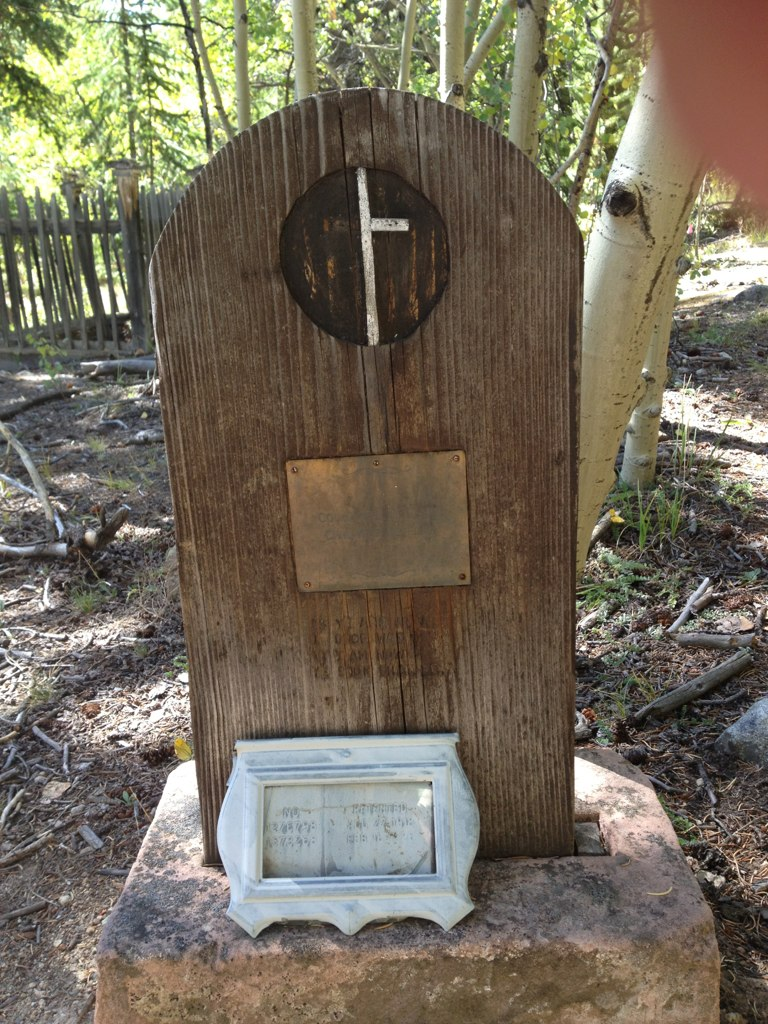upright: (100, 83, 723, 1018)
